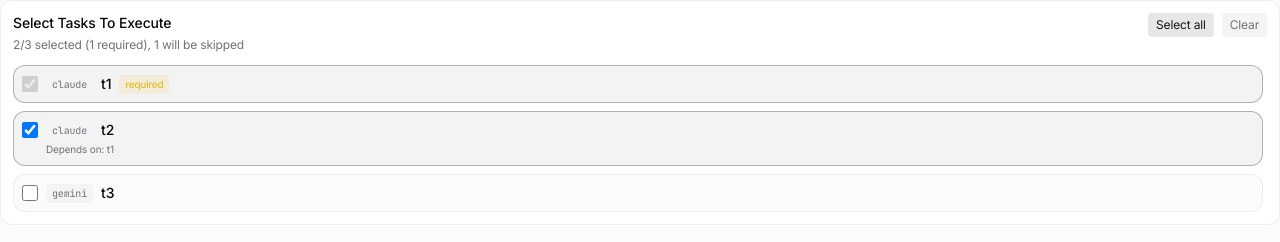
Test case: TaskSelectionPanel › select all / clear buttons update selection
The image size is (1280, 242).
Step 1. Click the button "Select all" → click(1181, 25), box [1148, 13, 1214, 37]
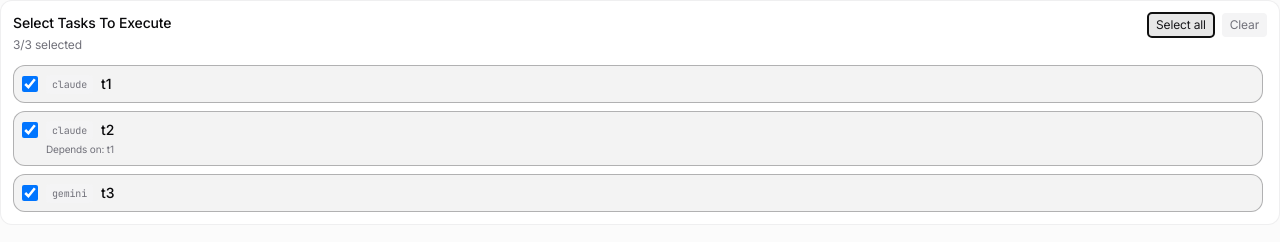
Result: the text "3/3 selected" is shown at [13, 37, 82, 52]
Step 2. Click the button "Clear" → click(1244, 25), box [1222, 13, 1267, 37]
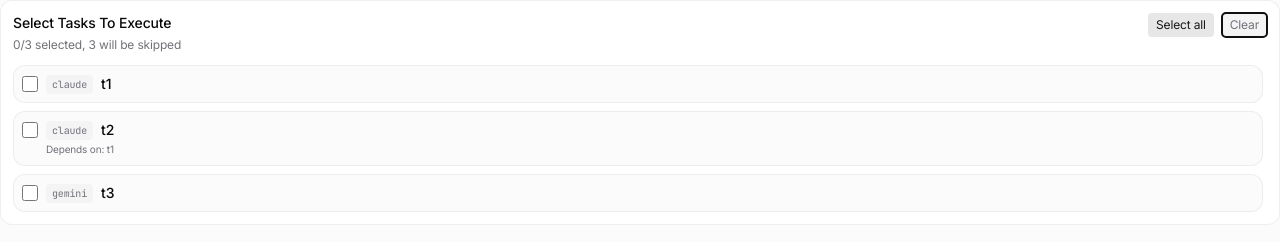
Result: the text "0/3 selected, 3 will be skipped" is shown at [13, 37, 181, 53]
